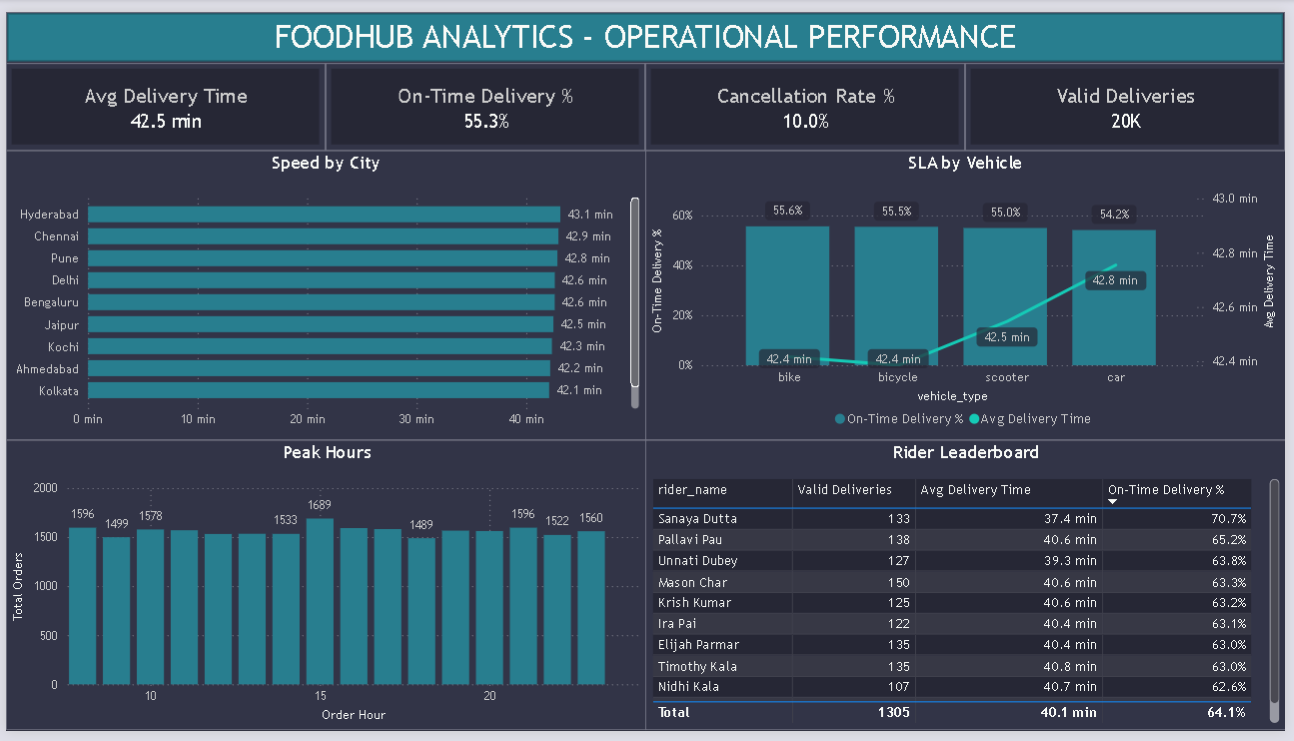

This screenshot's page, from the dashboard's own definition file:
{"tool":"powerbi","page":{"name":"Operational Performance","canvas":[1280,720],"ordinal":2},"visuals":[{"type":"cardVisual","fields":{"Data":["public fact_orders.Avg Delivery Time"]},"box":[0,51,320,88],"z":0},{"type":"cardVisual","fields":{"Data":["public fact_orders.On-Time Delivery %"]},"box":[320,51.2,320,88],"z":1000},{"type":"cardVisual","fields":{"Data":["public fact_orders.Cancellation Rate %"]},"box":[640,51.2,320,88],"z":2000},{"type":"cardVisual","fields":{"Data":["public fact_orders.Valid Deliveries"]},"box":[960,51.2,320,88],"z":3000},{"type":"barChart","title":"Speed by City","fields":{"Category":["public dim_restaurants.city"],"Y":["public fact_orders.Avg Delivery Time"]},"box":[0,139,640.7,290],"z":4000},{"type":"lineClusteredColumnComboChart","title":"SLA by Vehicle","fields":{"Category":["public dim_riders.vehicle_type"],"Y":["public fact_orders.On-Time Delivery %"],"Y2":["public fact_orders.Avg Delivery Time"]},"box":[640,139,640.7,290],"z":5000},{"type":"clusteredColumnChart","title":"Peak Hours","fields":{"Category":["public fact_orders.Order Hour"],"Y":["public fact_orders.Total Orders"]},"box":[0,428.8,641.2,290],"z":6000},{"type":"tableEx","title":"Rider Leaderboard","fields":{"Values":["public dim_riders.rider_name","public fact_orders.Valid Deliveries","public fact_orders.Avg Delivery Time","public fact_orders.On-Time Delivery %"]},"box":[640,428.8,641.2,290],"z":7000},{"type":"group","id":"g1","title":"Group 1","box":[0,0,1280,52.5],"z":8000},{"type":"shape","box":[0,0,1280,51.7],"z":10000,"group":"g1"},{"type":"textbox","box":[124.7,0,1029.4,52.5],"z":11000,"group":"g1"}]}

Visuals, with their boxes in screenshot pixels (x1, y1, x2, y2), scaled from the page's 1280x720 canvas onto the 1294x741 screenshot:
cardVisual - public fact_orders.Avg Delivery Time: (left=0, top=52, right=324, bottom=143)
cardVisual - public fact_orders.On-Time Delivery %: (left=324, top=53, right=647, bottom=143)
cardVisual - public fact_orders.Cancellation Rate %: (left=647, top=53, right=970, bottom=143)
cardVisual - public fact_orders.Valid Deliveries: (left=970, top=53, right=1293, bottom=143)
"Speed by City" barChart: (left=0, top=143, right=648, bottom=442)
"SLA by Vehicle" lineClusteredColumnComboChart: (left=647, top=143, right=1293, bottom=442)
"Peak Hours" clusteredColumnChart: (left=0, top=441, right=648, bottom=740)
"Rider Leaderboard" tableEx: (left=647, top=441, right=1293, bottom=740)
"Group 1" group: (left=0, top=0, right=1293, bottom=54)
shape: (left=0, top=0, right=1293, bottom=53)
textbox: (left=126, top=0, right=1167, bottom=54)
